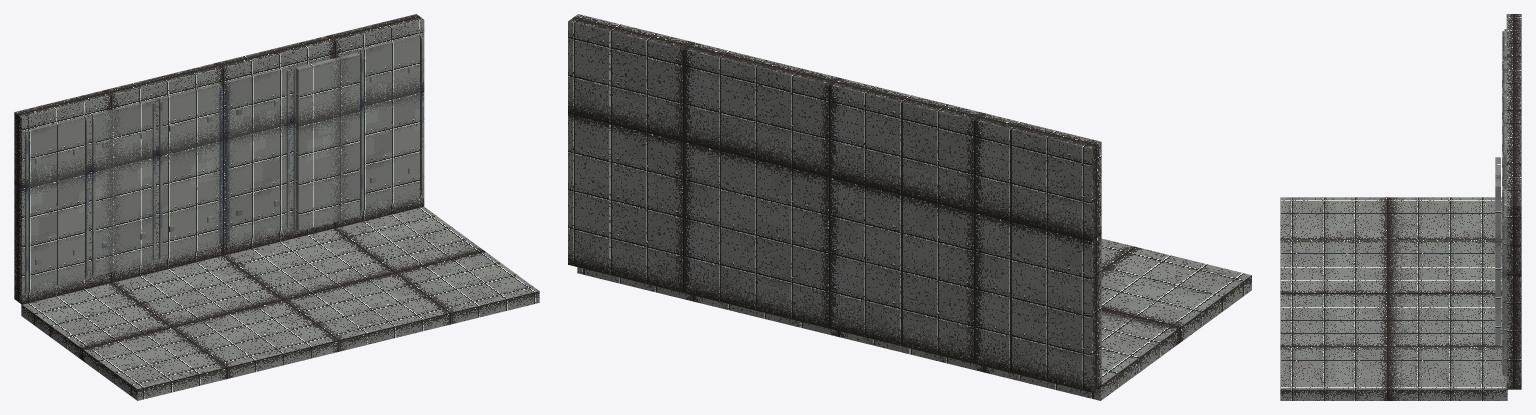
File: secret_tier_learning.glb
The picture shows the model from 3 angles, left to right: view 1: azimuth 30°, elevation 25°; view 2: azimuth 150°, elevation 25°; view 3: azimuth 270°, elevation 25°; orthographic projection. The views are drawn at different scales.
Parts seen in each view (by area): view 1: secret_tier_learning; view 2: secret_tier_learning; view 3: secret_tier_learning.
Boxes of the visible parts, x1,y1,x2,y2 form: secret_tier_learning: (14,14,539,400); secret_tier_learning: (568,14,1251,400); secret_tier_learning: (1280,14,1521,400).
Size of the model in its own units: 7.2 by 3.4 by 3.82.
Materials: 3 (3 with a texture image).
